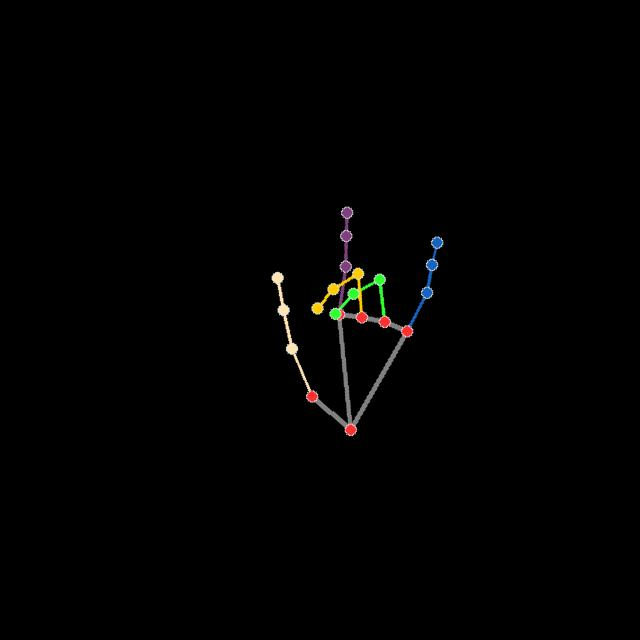spiderman: (269, 202, 445, 439)
